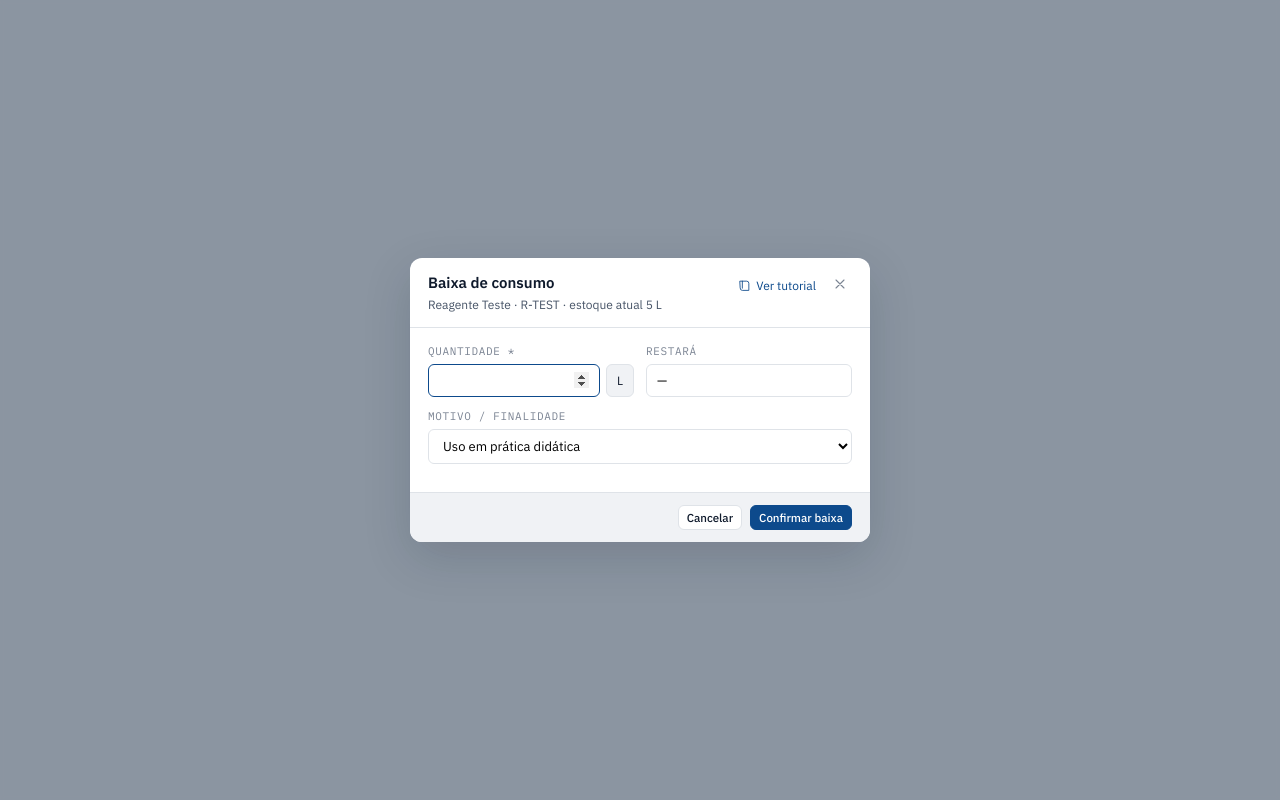
Test: FormBaixa › updates the remaining stock preview as quantity is entered
Type "2" into the number field at x=514, y=381, box [428, 364, 600, 397]
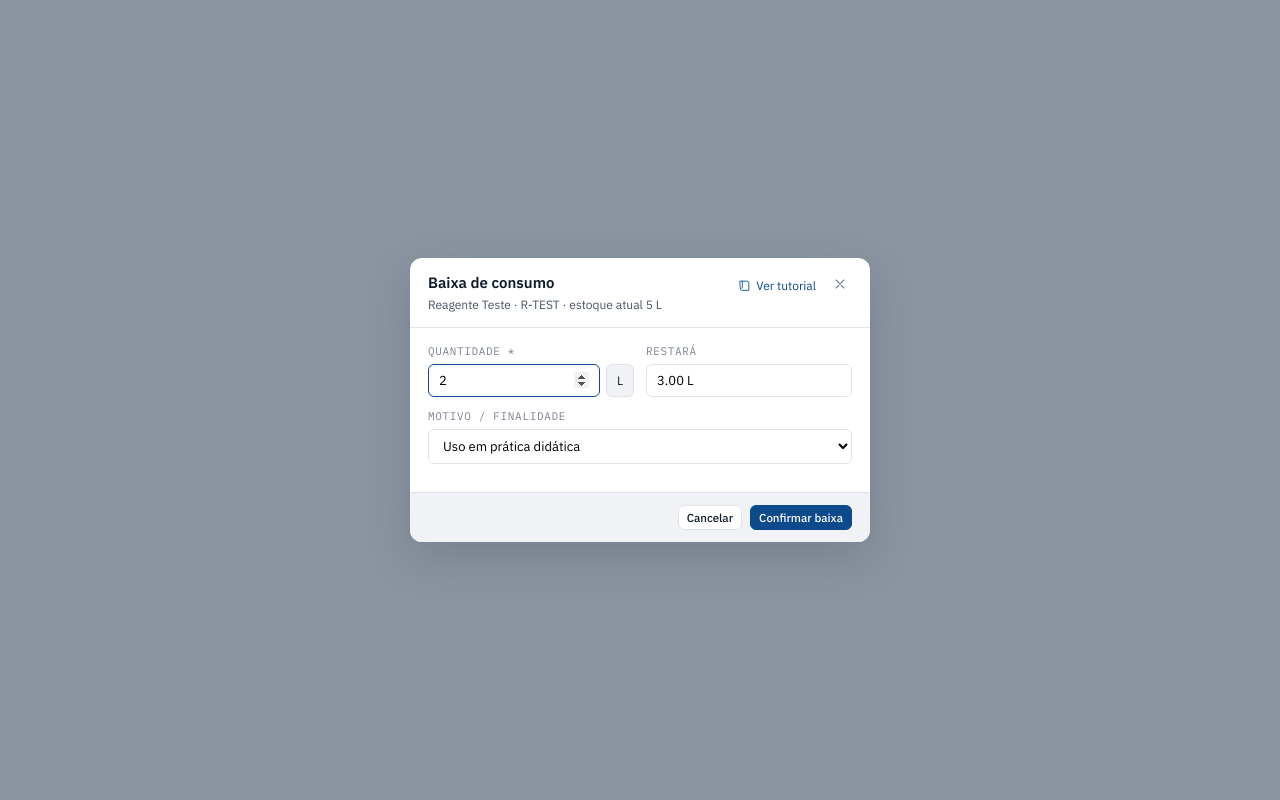
Check: the field showing "3.00 L" is shown, box [646, 364, 852, 397]
